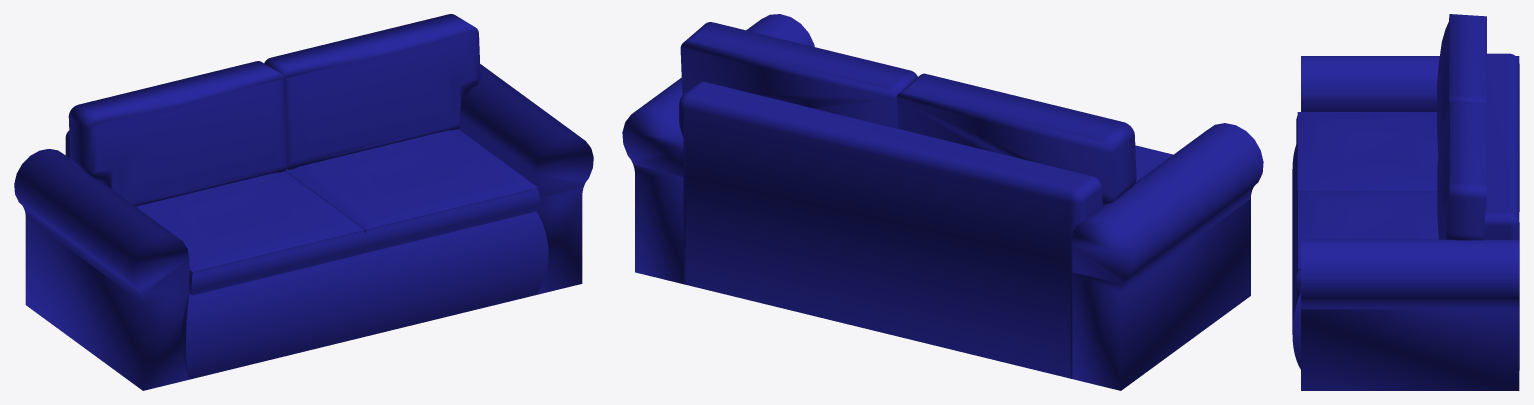
3 renders of one model, left to right at view 1: azimuth 30°, elevation 25°; view 2: azimuth 150°, elevation 25°; view 3: azimuth 270°, elevation 25°, orthographic. The views are drawn at different scales.
Visible parts, largest first — view 1: Mesh8 Ikea_Ektorp_2_Seater_Sofa_Bed1 Model, Mesh2 Ektorp_Back_Cushion__Left1 Ikea_Ektorp_2_Seater_Sofa_Bed1 , Mesh1 Ektorp_Back_Cushion__Right1 Ikea_Ektorp_2_Seater_Sofa_Bed1, Mesh3 Ektorp_Seat_Cushion1 Ikea_Ektorp_2_Seater_Sofa_Bed1 Model, Mesh5 Ektorp_Seat_Cushion2 Ikea_Ektorp_2_Seater_Sofa_Bed1 Model, Mesh4 Ektorp_Seat_Cushion1 Ikea_Ektorp_2_Seater_Sofa_Bed1 Model; view 2: Mesh7 Ikea_Ektorp_2_Seater_Sofa_Bed1 Model, Mesh8 Ikea_Ektorp_2_Seater_Sofa_Bed1 Model, Mesh2 Ektorp_Back_Cushion__Left1 Ikea_Ektorp_2_Seater_Sofa_Bed1 , Mesh1 Ektorp_Back_Cushion__Right1 Ikea_Ektorp_2_Seater_Sofa_Bed1, Mesh5 Ektorp_Seat_Cushion2 Ikea_Ektorp_2_Seater_Sofa_Bed1 Model; view 3: Mesh8 Ikea_Ektorp_2_Seater_Sofa_Bed1 Model, Mesh5 Ektorp_Seat_Cushion2 Ikea_Ektorp_2_Seater_Sofa_Bed1 Model, Mesh3 Ektorp_Seat_Cushion1 Ikea_Ektorp_2_Seater_Sofa_Bed1 Model, Mesh1 Ektorp_Back_Cushion__Right1 Ikea_Ektorp_2_Seater_Sofa_Bed1, Mesh7 Ikea_Ektorp_2_Seater_Sofa_Bed1 Model, Mesh2 Ektorp_Back_Cushion__Left1 Ikea_Ektorp_2_Seater_Sofa_Bed1 , Mesh6 Ektorp_Seat_Cushion2 Ikea_Ektorp_2_Seater_Sofa_Bed1 Model, Mesh4 Ektorp_Seat_Cushion1 Ikea_Ektorp_2_Seater_Sofa_Bed1 Model.
Part boxes in pixels (<box>): Mesh8 Ikea_Ektorp_2_Seater_Sofa_Bed1 Model: <box>14,64,593,390</box>; Mesh2 Ektorp_Back_Cushion__Left1 Ikea_Ektorp_2_Seater_Sofa_Bed1 : <box>68,61,287,206</box>; Mesh1 Ektorp_Back_Cushion__Right1 Ikea_Ektorp_2_Seater_Sofa_Bed1: <box>264,14,480,169</box>; Mesh3 Ektorp_Seat_Cushion1 Ikea_Ektorp_2_Seater_Sofa_Bed1 Model: <box>286,129,539,252</box>; Mesh5 Ektorp_Seat_Cushion2 Ikea_Ektorp_2_Seater_Sofa_Bed1 Model: <box>136,171,366,295</box>; Mesh4 Ektorp_Seat_Cushion1 Ikea_Ektorp_2_Seater_Sofa_Bed1 Model: <box>285,129,538,229</box>; Mesh7 Ikea_Ektorp_2_Seater_Sofa_Bed1 Model: <box>679,81,1102,378</box>; Mesh8 Ikea_Ektorp_2_Seater_Sofa_Bed1 Model: <box>622,14,1263,390</box>; Mesh2 Ektorp_Back_Cushion__Left1 Ikea_Ektorp_2_Seater_Sofa_Bed1 : <box>896,73,1136,206</box>; Mesh1 Ektorp_Back_Cushion__Right1 Ikea_Ektorp_2_Seater_Sofa_Bed1: <box>680,22,917,128</box>; Mesh5 Ektorp_Seat_Cushion2 Ikea_Ektorp_2_Seater_Sofa_Bed1 Model: <box>1135,146,1172,181</box>; Mesh8 Ikea_Ektorp_2_Seater_Sofa_Bed1 Model: <box>1292,56,1519,390</box>; Mesh5 Ektorp_Seat_Cushion2 Ikea_Ektorp_2_Seater_Sofa_Bed1 Model: <box>1296,112,1438,200</box>; Mesh3 Ektorp_Seat_Cushion1 Ikea_Ektorp_2_Seater_Sofa_Bed1 Model: <box>1296,191,1438,290</box>; Mesh1 Ektorp_Back_Cushion__Right1 Ikea_Ektorp_2_Seater_Sofa_Bed1: <box>1437,101,1487,240</box>; Mesh7 Ikea_Ektorp_2_Seater_Sofa_Bed1 Model: <box>1483,53,1519,370</box>; Mesh2 Ektorp_Back_Cushion__Left1 Ikea_Ektorp_2_Seater_Sofa_Bed1 : <box>1437,14,1486,153</box>; Mesh6 Ektorp_Seat_Cushion2 Ikea_Ektorp_2_Seater_Sofa_Bed1 Model: <box>1297,112,1436,190</box>; Mesh4 Ektorp_Seat_Cushion1 Ikea_Ektorp_2_Seater_Sofa_Bed1 Model: <box>1297,190,1437,269</box>.
Size of the model in its own units: 2 by 0.8559 by 0.9145.
